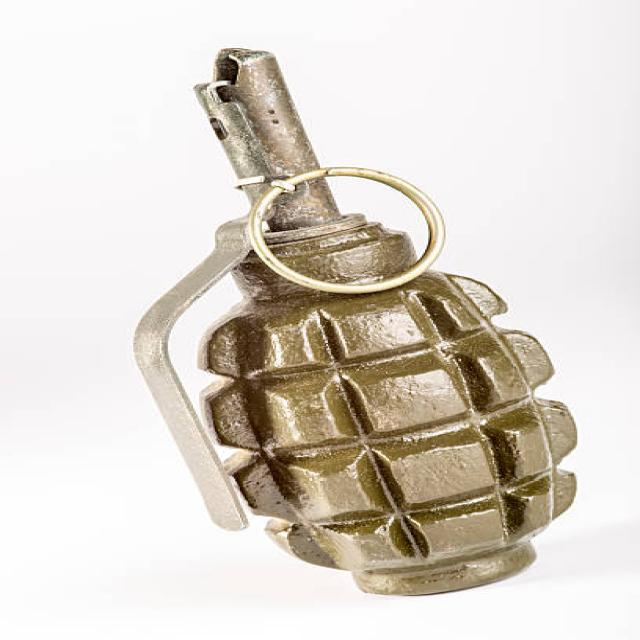grenade: (101, 35, 603, 602)
